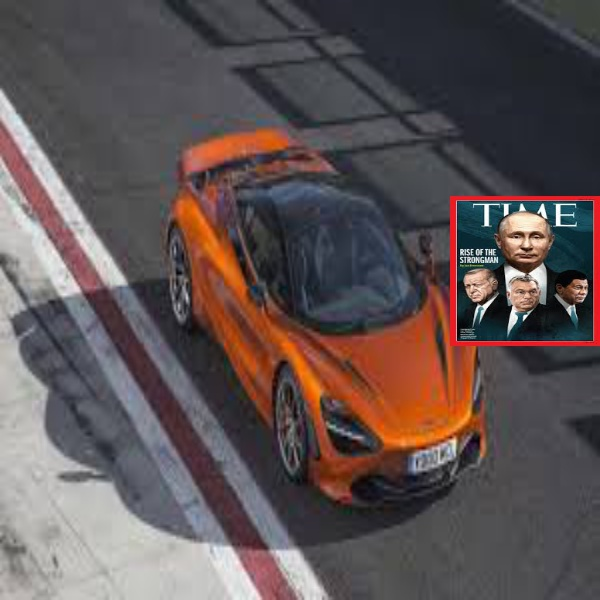time_cover: (447, 187, 599, 349)
